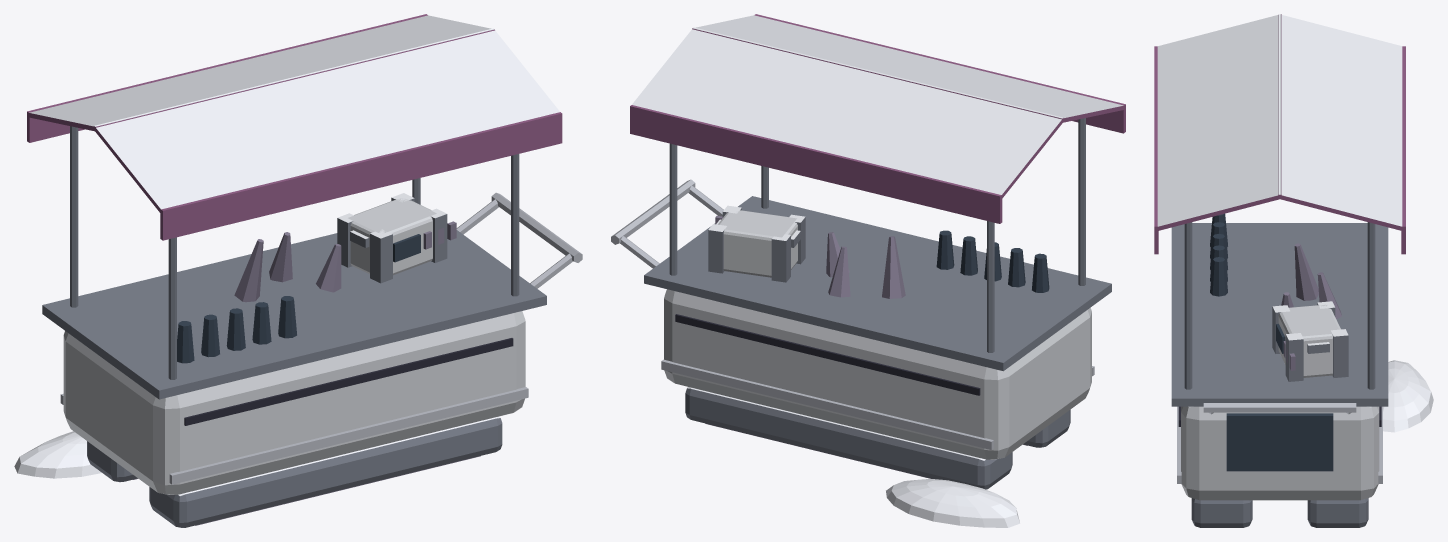
The model's file is PR_Carrinho_Feira.fbx.
3 renders of one model, left to right at view 1: azimuth 30°, elevation 25°; view 2: azimuth 150°, elevation 25°; view 3: azimuth 270°, elevation 25°, orthographic. The views are drawn at different scales.
Visible parts, largest first — view 1: PR_Carrinho_Feira; view 2: PR_Carrinho_Feira; view 3: PR_Carrinho_Feira.
Part boxes in pixels (left/top/right/bottom): PR_Carrinho_Feira: left=14, top=14, right=582, bottom=527; PR_Carrinho_Feira: left=611, top=14, right=1125, bottom=527; PR_Carrinho_Feira: left=1154, top=14, right=1433, bottom=527.
Bounding box in the file's own units: 3.24 × 2.6 × 1.83.
